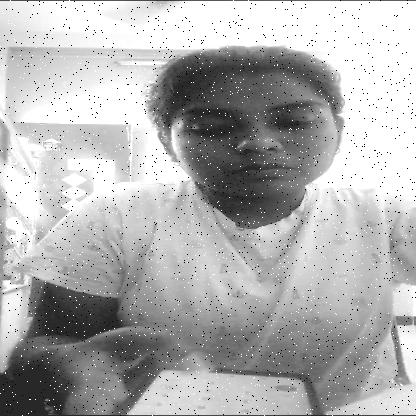Normal: (149, 56, 347, 190)
